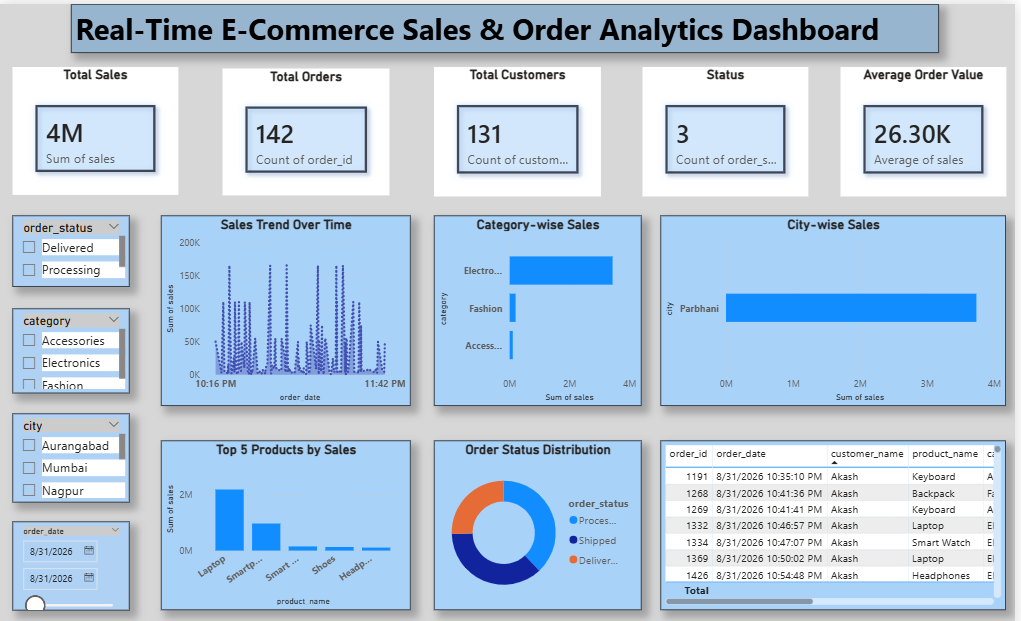

Layout of this report page (visuals, bound fields, positions):
{"tool":"powerbi","page":{"name":"real_time _dashboard","canvas":[1302,800],"ordinal":0},"visuals":[{"type":"cardVisual","title":"Total Sales","fields":{"Data":["Sum(realtime_orders.sales)"]},"box":[17.1,81.4,212.9,164.3],"z":0},{"type":"cardVisual","title":"Total Customers","fields":{"Data":["Count(realtime_orders.customer_id)"]},"box":[558.6,80,214.3,165.7],"z":1000},{"type":"cardVisual","title":"Average Order Value","fields":{"Data":["Avg(realtime_orders.sales)"]},"box":[1078.6,80,212.9,165.7],"z":2000},{"type":"lineChart","title":"Sales Trend Over Time","fields":{"Y":["Sum(realtime_orders.sales)"],"Category":["realtime_orders.order_date"]},"box":[208.6,271.4,320,244.3],"z":3000},{"type":"clusteredBarChart","title":"Category-wise Sales","fields":{"Category":["realtime_orders.category"],"Y":["Sum(realtime_orders.sales)"]},"box":[558.6,271.4,265.7,244.3],"z":4000},{"type":"clusteredBarChart","title":"City-wise Sales","fields":{"Category":["realtime_orders.city"],"Y":["Sum(realtime_orders.sales)"]},"box":[848.6,271.4,442.9,244.3],"z":5000},{"type":"clusteredColumnChart","title":"Top 5 Products by Sales","fields":{"Category":["realtime_orders.product_name"],"Y":["Sum(realtime_orders.sales)"]},"box":[208.6,560,320,217.1],"z":6000},{"type":"donutChart","title":"Order Status Distribution","fields":{"Category":["realtime_orders.order_status"],"Y":["realtime_orders.count_order"]},"box":[558.6,560,265.7,217.1],"z":7000},{"type":"tableEx","fields":{"Values":["realtime_orders.order_id","realtime_orders.order_date","realtime_orders.customer_name","realtime_orders.product_name","realtime_orders.category","Sum(realtime_orders.quantity)","Sum(realtime_orders.sales)","realtime_orders.city","realtime_orders.payment_method","realtime_orders.order_status"]},"box":[848.6,560,442.9,217.1],"z":8000},{"type":"slicer","fields":{"Values":["realtime_orders.order_status"]},"box":[17.1,271.4,150,91.4],"z":9000},{"type":"slicer","fields":{"Values":["realtime_orders.category"]},"box":[17.1,390,150,108.6],"z":10000},{"type":"slicer","fields":{"Values":["realtime_orders.city"]},"box":[17.1,525.7,150,114.3],"z":11000},{"type":"slicer","fields":{"Values":["realtime_orders.order_date"]},"box":[17.1,662.9,150,114.3],"z":12000},{"type":"textbox","box":[92.9,0,1112.9,62.9],"z":13000},{"type":"cardVisual","title":"Total Orders","fields":{"Data":["CountNonNull(realtime_orders.order_id)"]},"box":[287.1,82.9,214.3,162.9],"z":14000},{"type":"cardVisual","title":"Status","fields":{"Data":["Count(realtime_orders.order_status)"]},"box":[824.3,81.4,212.9,165.7],"z":15000}]}

Visuals, with their boxes in screenshot pixels (x1, y1, x2, y2), scaled from the page's 1302x800 canvas onto the 1021x621 screenshot:
"Total Sales" cardVisual: <box>13,63,180,191</box>
"Total Customers" cardVisual: <box>438,62,606,191</box>
"Average Order Value" cardVisual: <box>846,62,1013,191</box>
"Sales Trend Over Time" lineChart: <box>164,211,415,400</box>
"Category-wise Sales" clusteredBarChart: <box>438,211,646,400</box>
"City-wise Sales" clusteredBarChart: <box>665,211,1013,400</box>
"Top 5 Products by Sales" clusteredColumnChart: <box>164,435,415,603</box>
"Order Status Distribution" donutChart: <box>438,435,646,603</box>
tableEx - realtime_orders.order_id x realtime_orders.order_date: <box>665,435,1013,603</box>
slicer - realtime_orders.order_status: <box>13,211,131,282</box>
slicer - realtime_orders.category: <box>13,303,131,387</box>
slicer - realtime_orders.city: <box>13,408,131,497</box>
slicer - realtime_orders.order_date: <box>13,515,131,603</box>
textbox: <box>73,0,946,49</box>
"Total Orders" cardVisual: <box>225,64,393,191</box>
"Status" cardVisual: <box>646,63,813,192</box>
